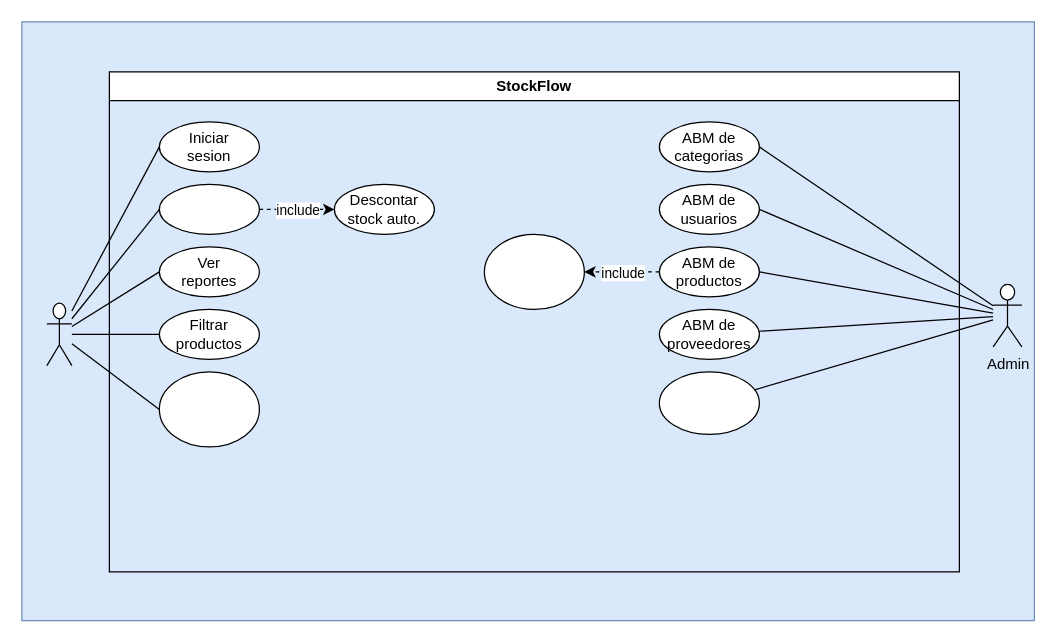
The diagram is 1056 pixels wide and 643 high, and some of its shapes have lost their labels. The centre of each missing label's shape, as x and y in pixels:
Ajustes manuales de stock: the point at 708,402
Registrar ingreso de mercaderia: the point at 208,409
Registrar ventas: the point at 208,208
Seleccionar categoria y proveedor: the point at 533,271
Usuario Registrado: the point at 59,334
